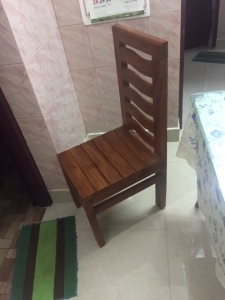chair: (55, 24, 168, 248)
